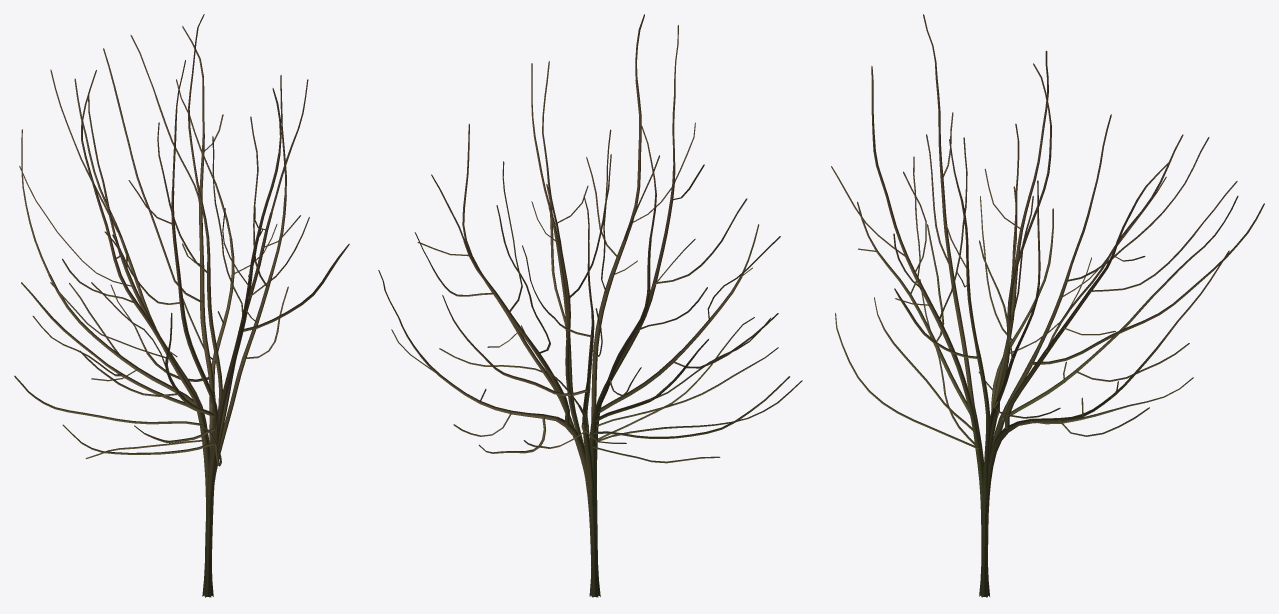
The model's file is SM_Tree_hazel_2_bare.glb.
The picture shows the model from 3 angles, left to right: view 1: azimuth 30°, elevation 25°; view 2: azimuth 150°, elevation 25°; view 3: azimuth 270°, elevation 25°; orthographic projection. The views are drawn at different scales.
Visible parts, largest first — view 1: SM_Tree_hazel_2_bare; view 2: SM_Tree_hazel_2_bare; view 3: SM_Tree_hazel_2_bare.
Boxes of the visible parts, x1,y1,x2,y2 form: SM_Tree_hazel_2_bare: (14,14,349,597); SM_Tree_hazel_2_bare: (378,14,802,597); SM_Tree_hazel_2_bare: (831,14,1264,597).
Size of the model in its own units: 3.63 by 5.94 by 4.19.
